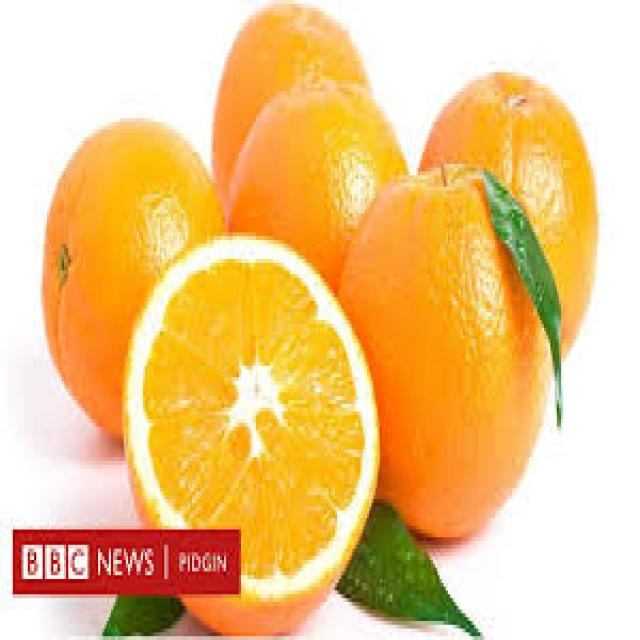orange: (123, 239, 382, 614)
